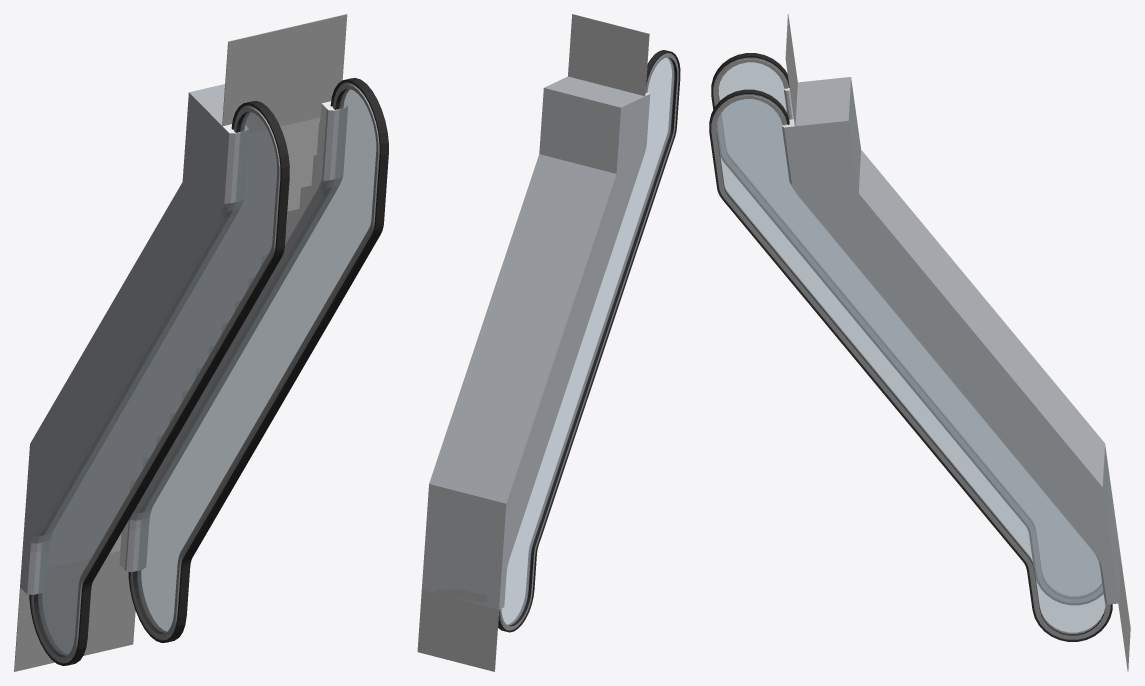
File: Thang bộ đơn.glb
3 views of the same model, side by side, from view 1: azimuth 30°, elevation 25°; view 2: azimuth 150°, elevation 25°; view 3: azimuth 270°, elevation 25° (orthographic). The views are drawn at different scales.
Parts seen in each view (by area): view 1: world; view 2: world; view 3: world.
Part boxes in pixels (<box>): world: <box>14,14,388,671</box>; world: <box>417,14,680,671</box>; world: <box>709,14,1130,671</box>.
Bounding box in the file's own units: 139 × 836 × 523.
